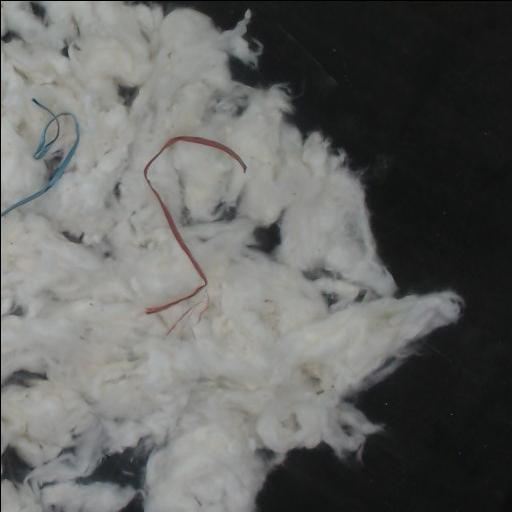conveyor belt: (159, 1, 512, 512), (83, 449, 145, 486), (2, 449, 28, 481), (257, 225, 279, 252), (122, 495, 142, 512)
cotton: (1, 1, 461, 512)
thread: (143, 135, 246, 333), (1, 99, 79, 217)
